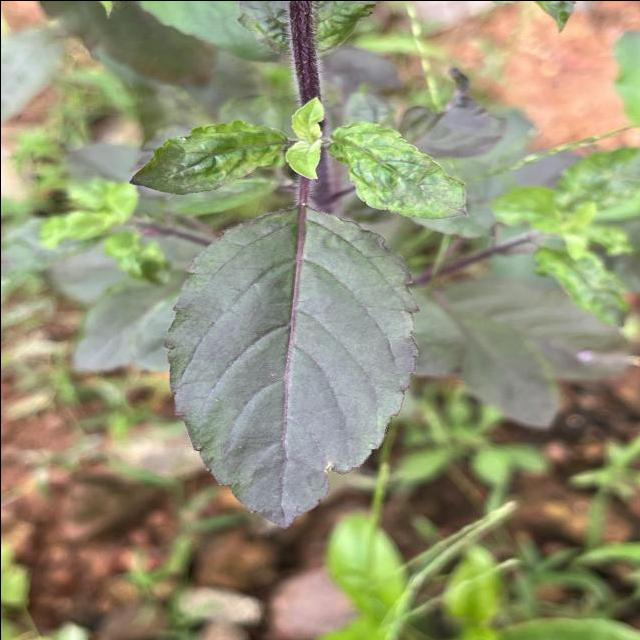Ocimum tenuiflorum: (159, 198, 426, 532)
